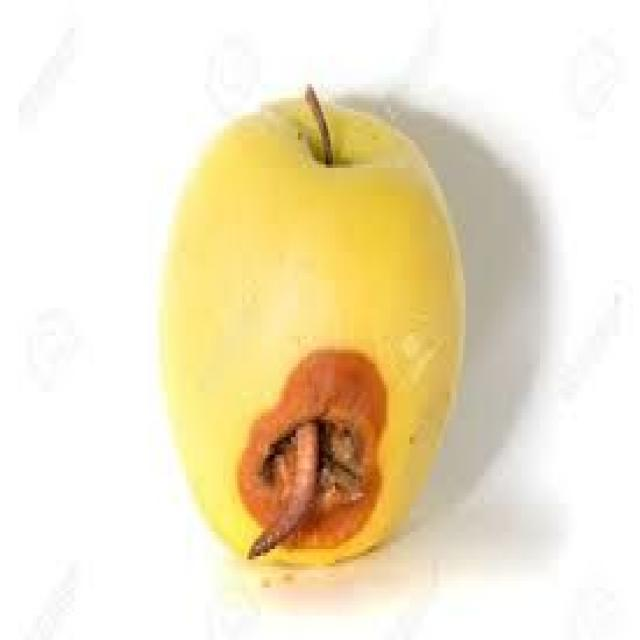Rotten: (154, 96, 466, 570)
